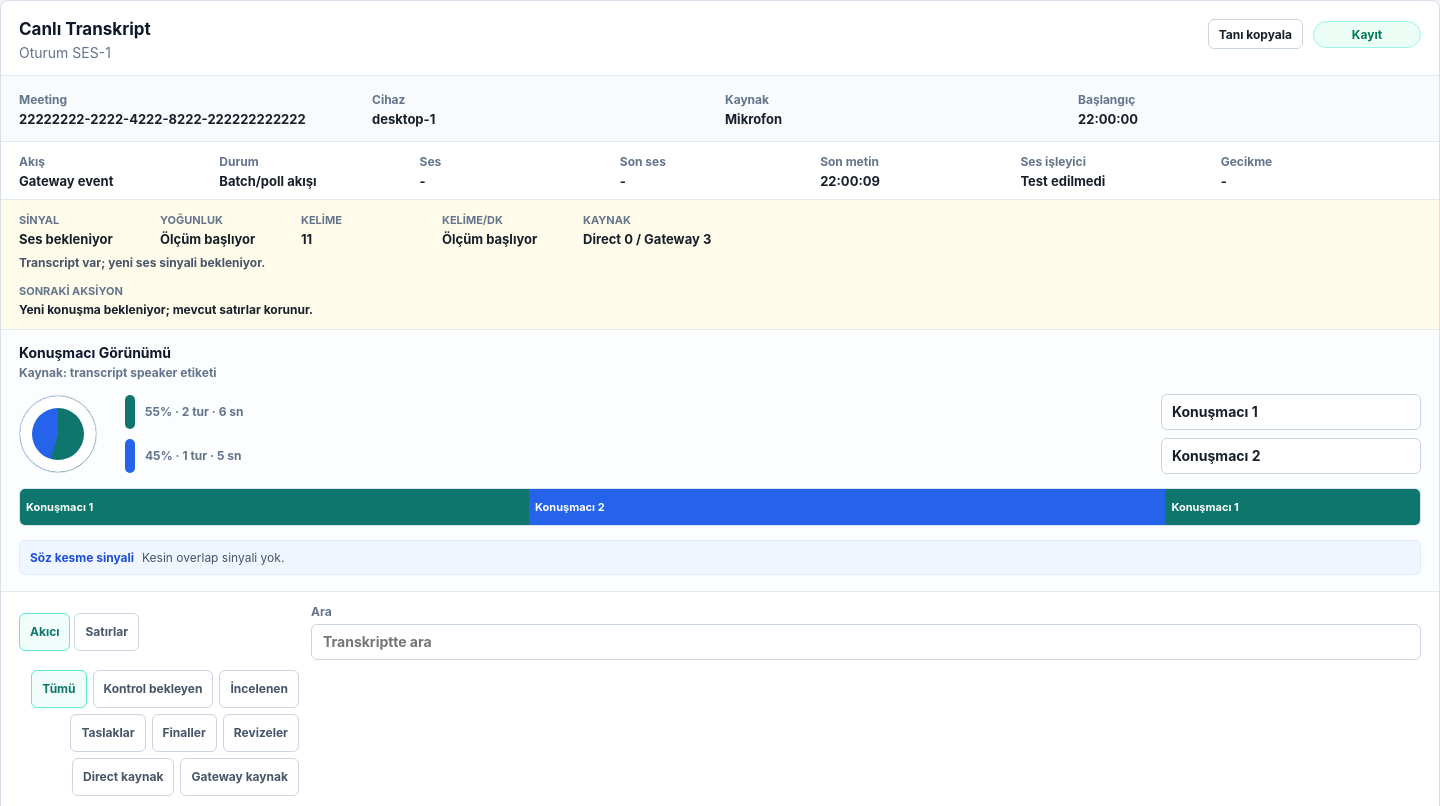
TranscriptPanel › renders speaker timeline distribution and lets reviewed labels drive the transcript view
Expected: the heading "Konuşmacı Görünümü" is shown, [19, 344, 171, 361]
Expected: the element named "Konuşma dağılımı pasta grafiği" is shown, [19, 395, 97, 473]
Replace the text in the field named "Konuşmacı adı: Konuşmacı 1" with "Halil Bey" at (1291, 412), box [1161, 394, 1421, 430]
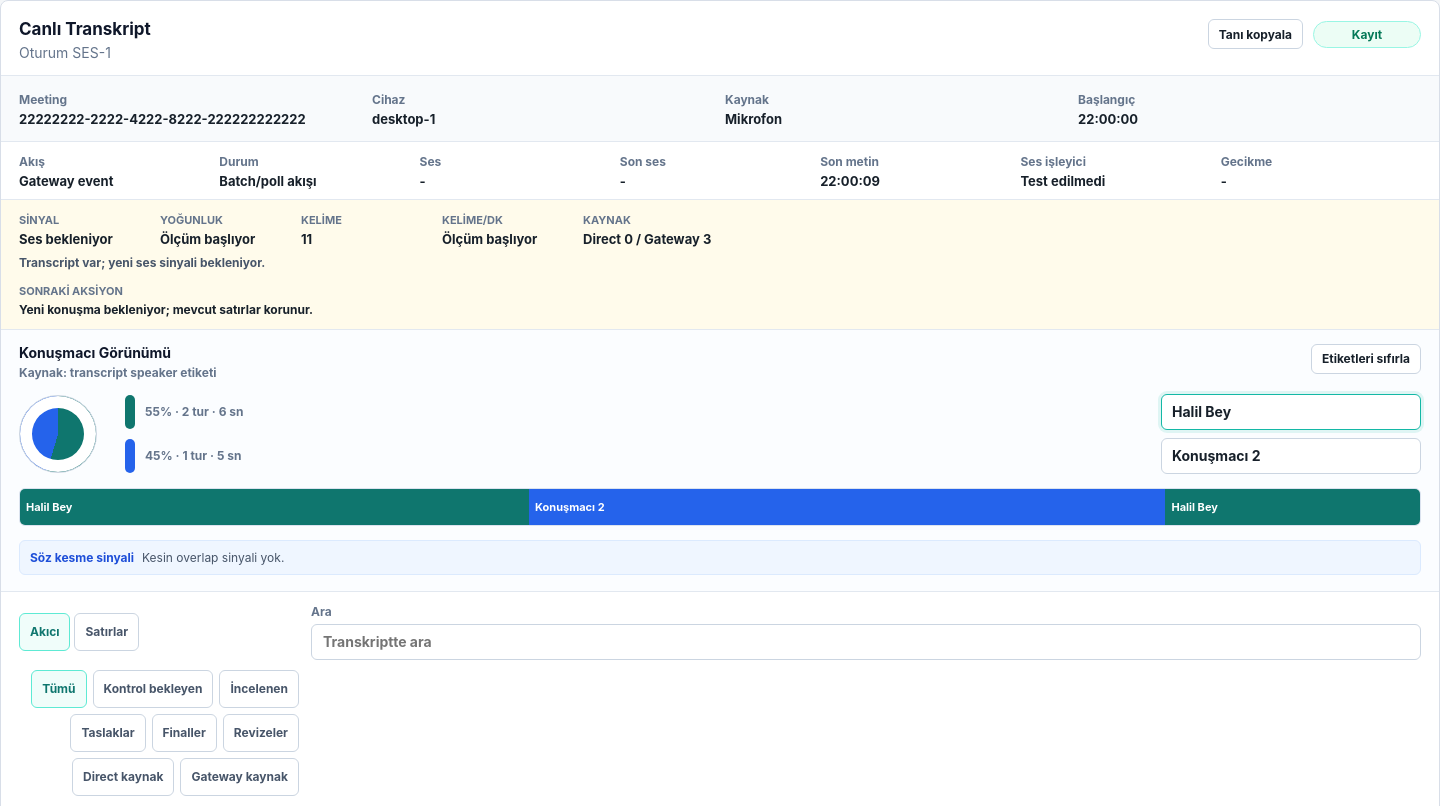
Now the button "Etiketleri sıfırla" is shown
Now the 1st text "Halil Bey" is shown, box [26, 500, 72, 514]
Click the button "Etiketleri sıfırla" at (1366, 359), box [1311, 344, 1421, 374]
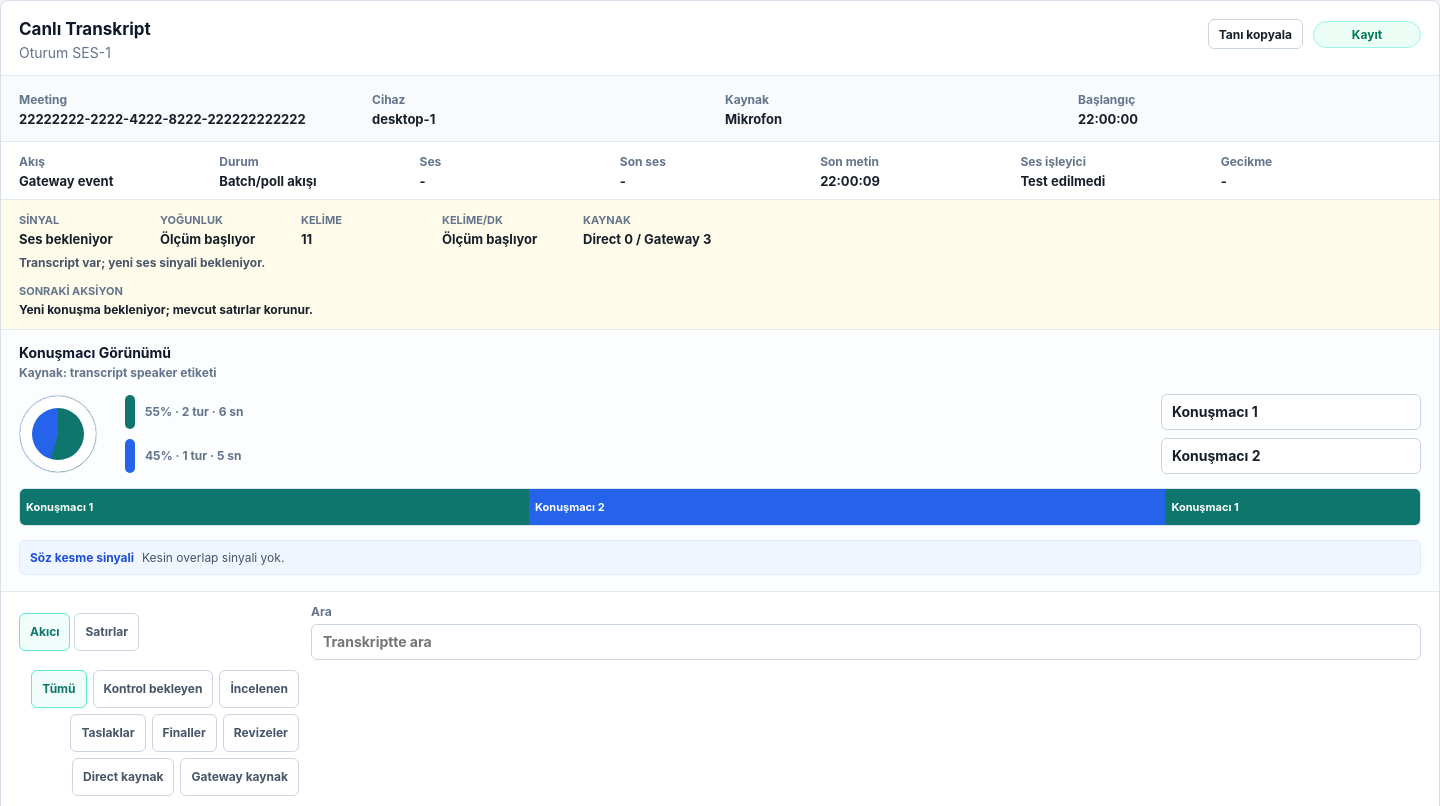
Now the button "Etiketleri sıfırla" is gone
Now the field named "Konuşmacı adı: Konuşmacı 1" holds "Konuşmacı 1", box [1161, 394, 1421, 430]
